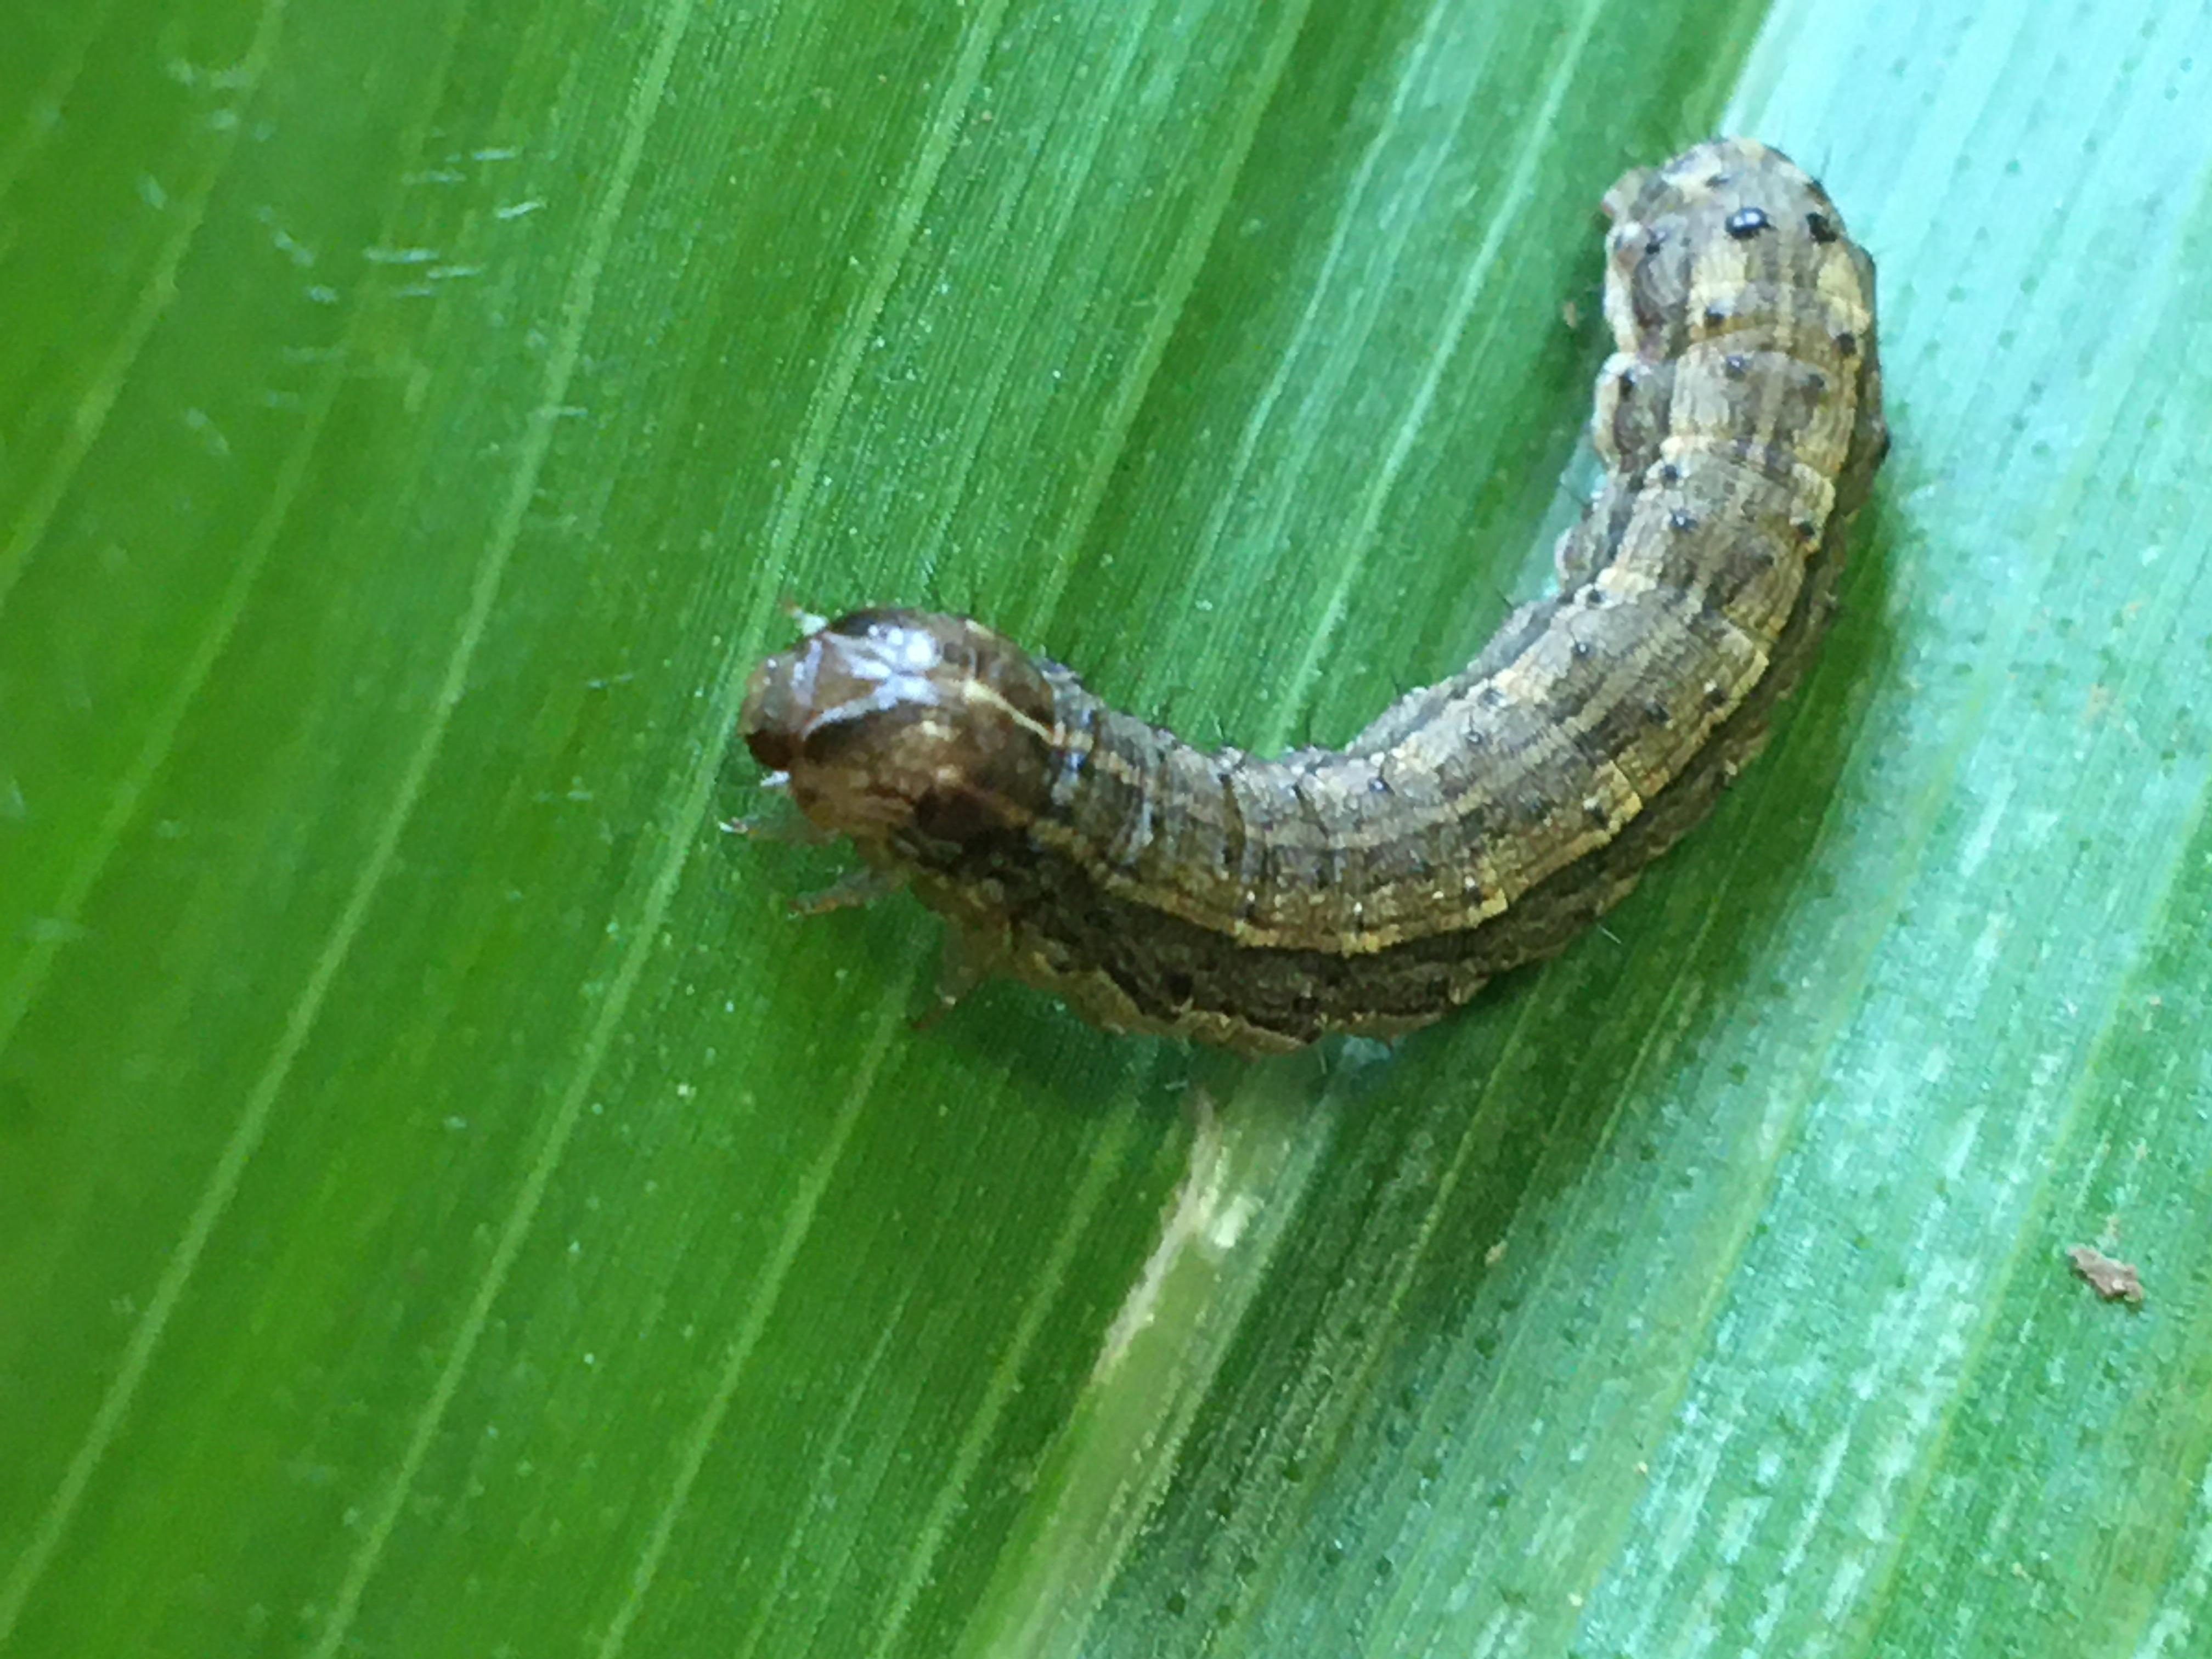Maize-fall-armyworm: (573, 112, 2031, 1297)
